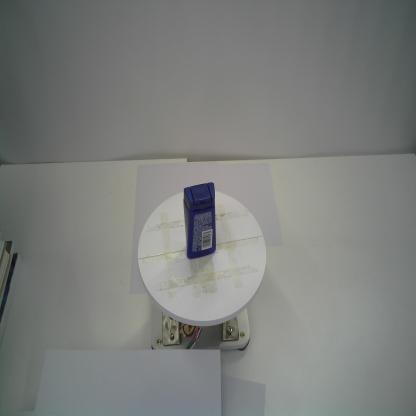Personal Hygiene: (183, 181, 217, 260)
